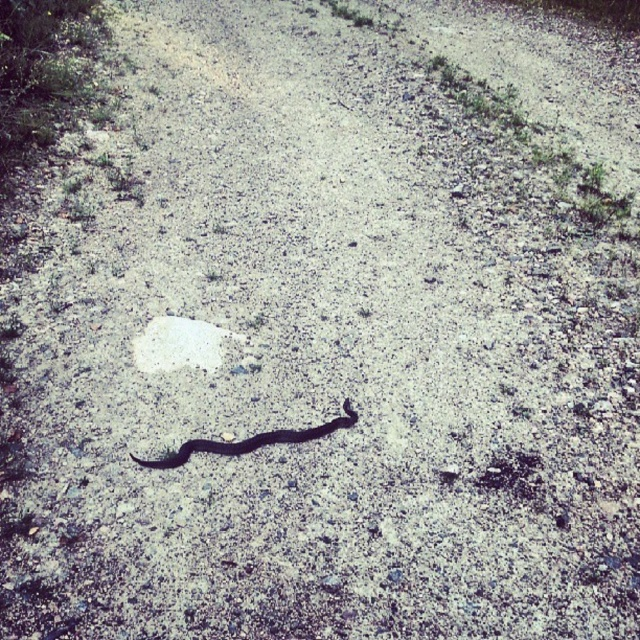Snake: (128, 396, 359, 470)
